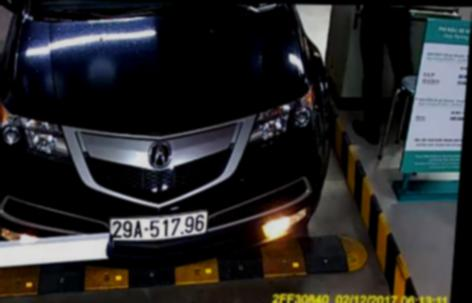License_Plate: (103, 208, 212, 243)
